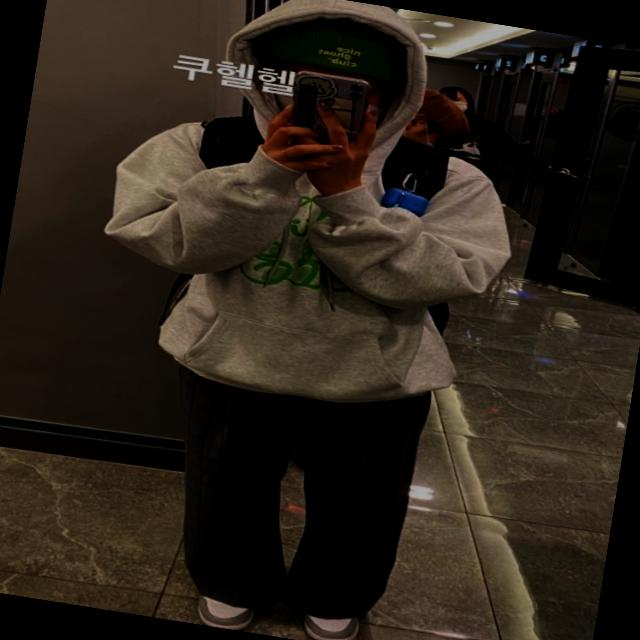hoodies: (83, 0, 544, 434)
slacks: (143, 354, 427, 635)
